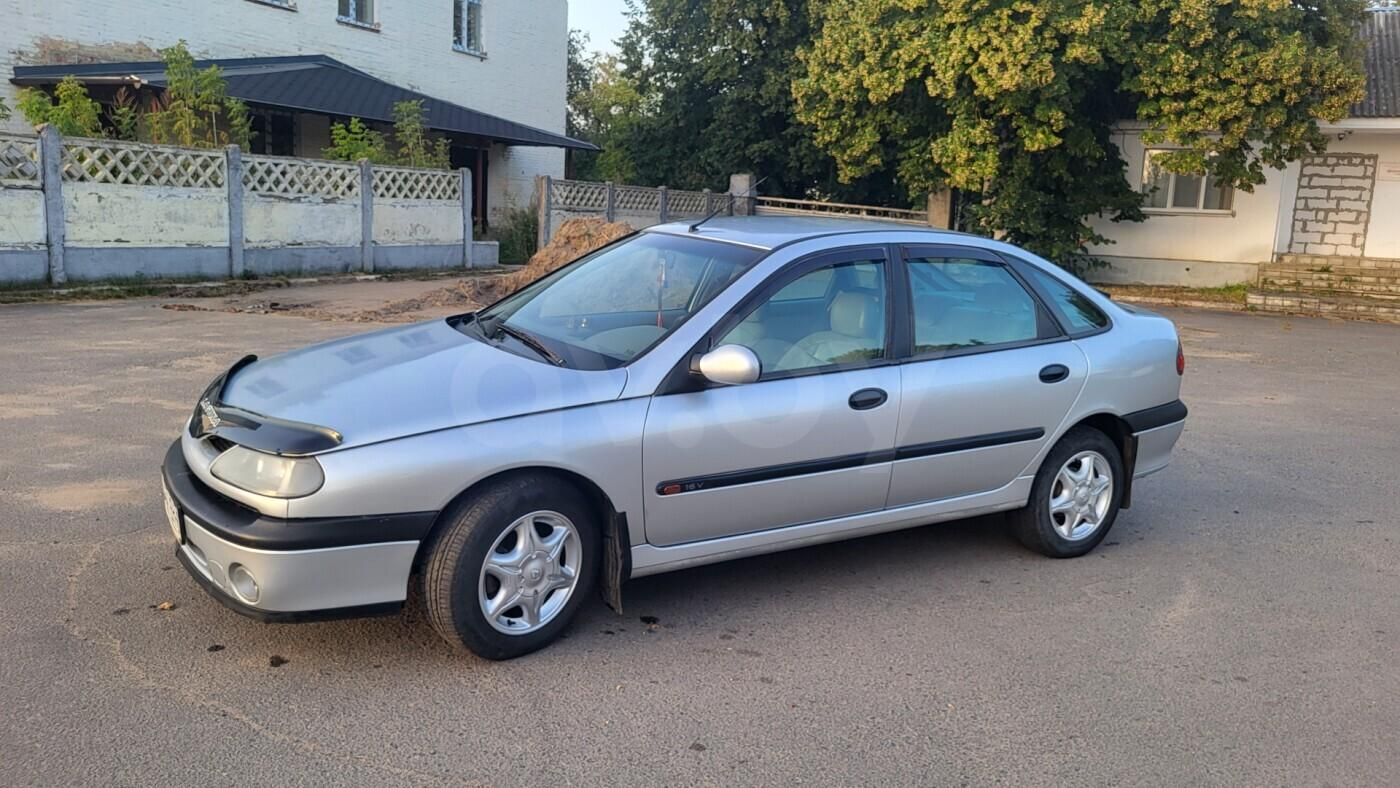Laguna_1998-2001: (166, 215, 1194, 659)
